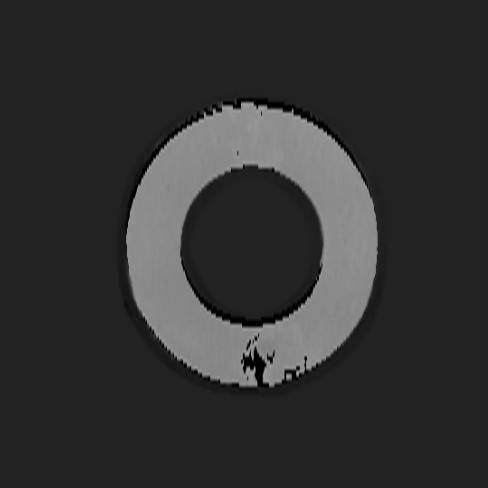defect: (241, 331, 308, 388)
